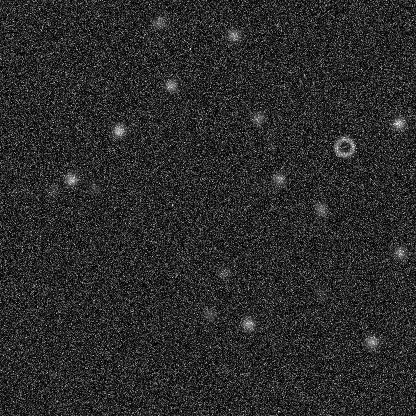Ring: (332, 134, 356, 158)
Spot: (44, 182, 60, 198), (226, 27, 242, 43), (391, 244, 407, 260), (271, 171, 287, 187), (250, 110, 266, 126), (62, 171, 78, 187), (162, 77, 178, 93), (201, 306, 217, 322), (363, 333, 379, 349), (390, 115, 406, 131), (312, 284, 328, 300), (110, 122, 126, 138), (240, 315, 256, 331), (216, 264, 232, 280), (151, 14, 167, 30), (312, 201, 328, 217), (86, 179, 102, 195)
